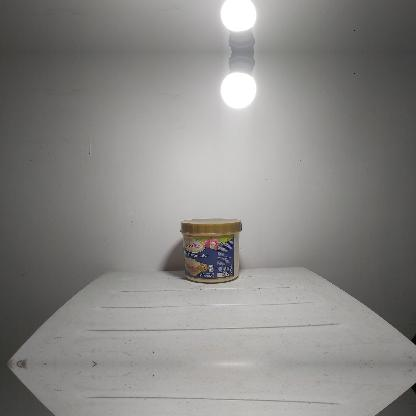Lady-s-Choice: (180, 218, 242, 282)
